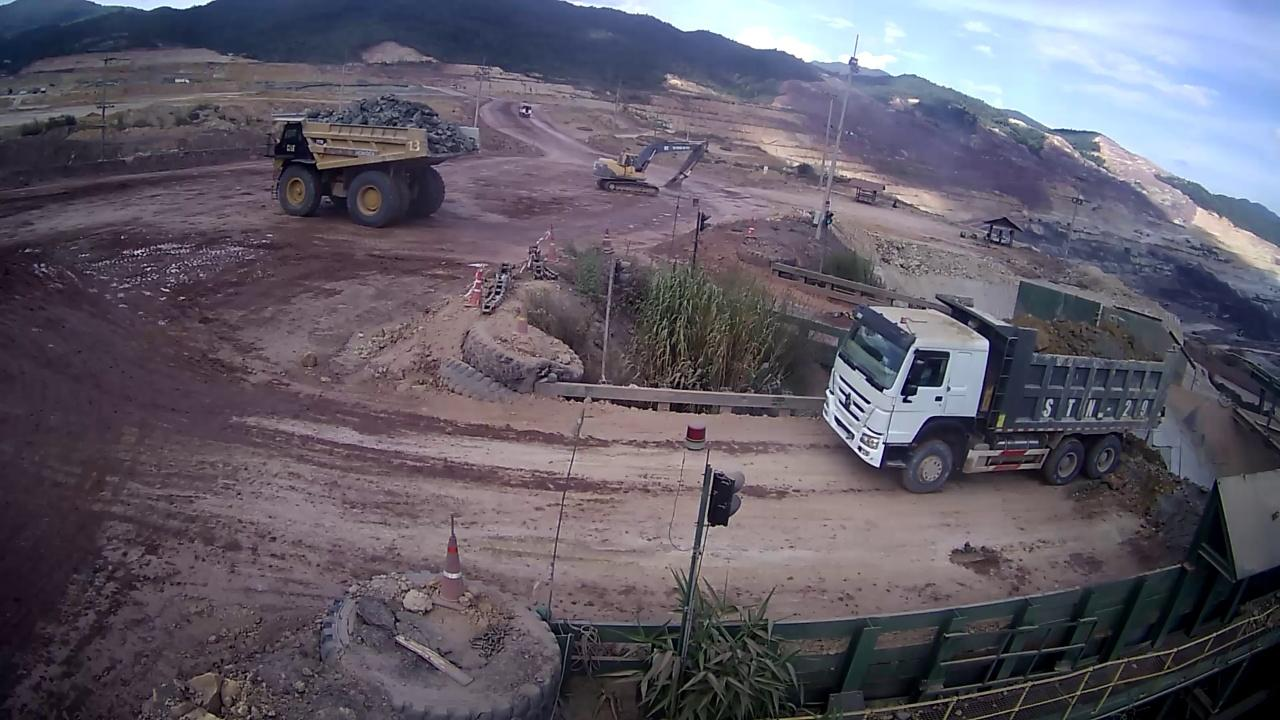full_load: (337, 91, 457, 129)
mining_truck: (260, 89, 484, 231)
tail_number: (404, 137, 427, 153)
